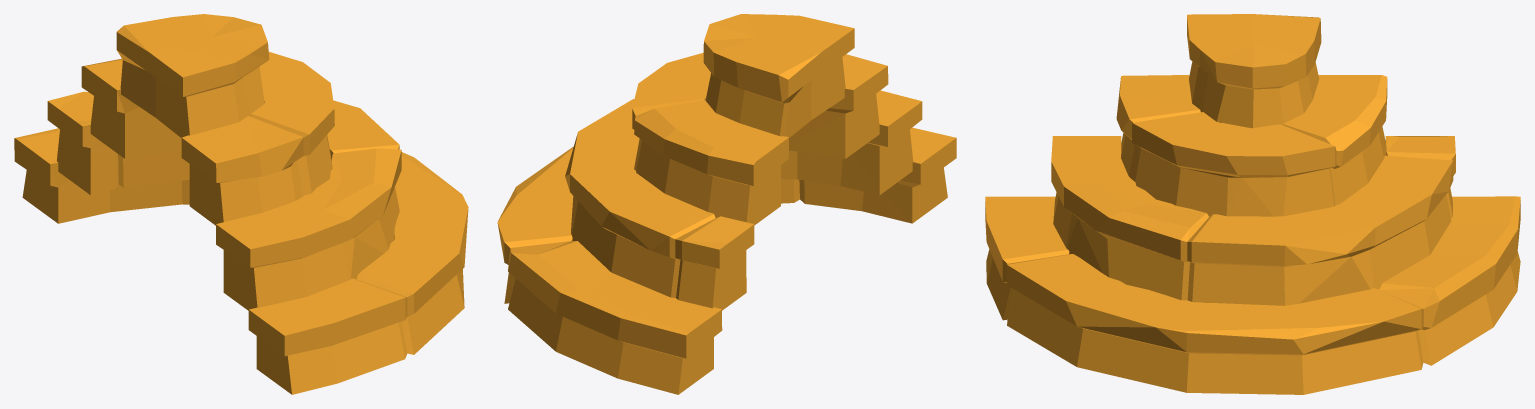
Rendered from SM_Stairs_Stone_Nice_Ender_Fantasy.fbx.
3 views of the same model, side by side, from view 1: azimuth 30°, elevation 25°; view 2: azimuth 150°, elevation 25°; view 3: azimuth 270°, elevation 25° (orthographic).
Parts seen in each view (by area): view 1: SM_Stairs_Stone_Nice_Ender_Fantasy; view 2: SM_Stairs_Stone_Nice_Ender_Fantasy; view 3: SM_Stairs_Stone_Nice_Ender_Fantasy.
Boxes of the visible parts, x1,y1,x2,y2 form: SM_Stairs_Stone_Nice_Ender_Fantasy: [14, 14, 468, 394]; SM_Stairs_Stone_Nice_Ender_Fantasy: [497, 14, 956, 394]; SM_Stairs_Stone_Nice_Ender_Fantasy: [985, 14, 1520, 394].
Bounding box in the file's own units: 1.22 × 1.01 × 2.
